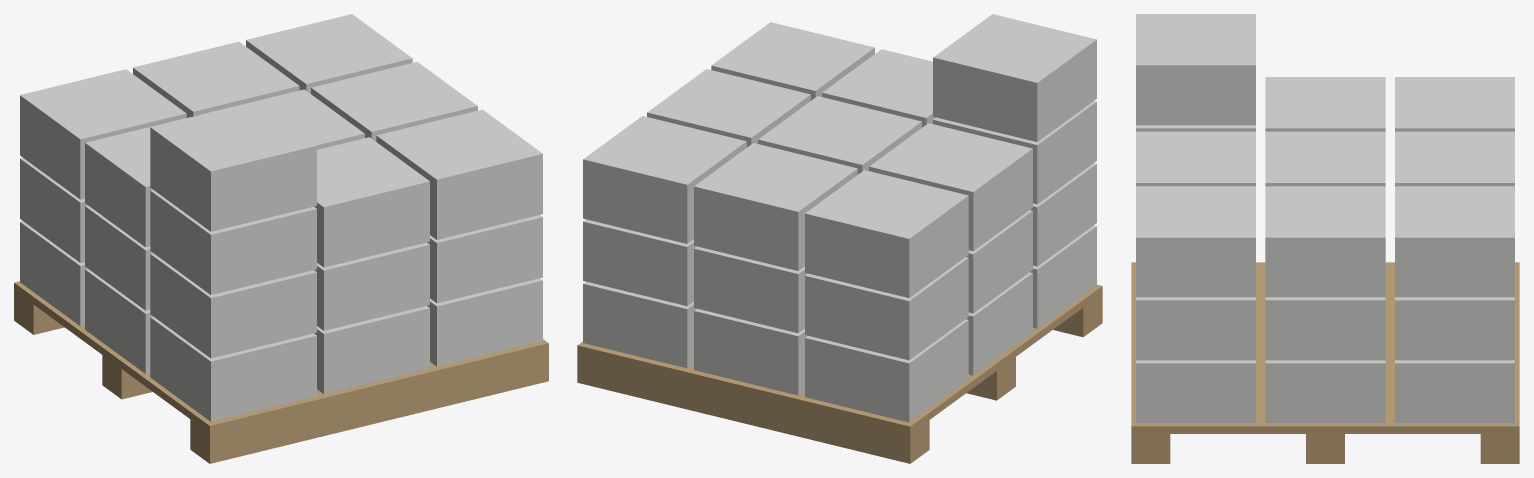
The model's file is pallet_mp_28.glb.
3 renders of one model, left to right at view 1: azimuth 30°, elevation 25°; view 2: azimuth 150°, elevation 25°; view 3: azimuth 270°, elevation 25°, orthographic.
Parts seen in each view (by area): view 1: PalletMP; view 2: PalletMP; view 3: PalletMP.
Part boxes in pixels (<box>): PalletMP: <box>14,14,548,463</box>; PalletMP: <box>577,14,1102,463</box>; PalletMP: <box>1131,14,1519,463</box>.
Bounding box in the file's own units: 1 × 0.8171 × 1.
